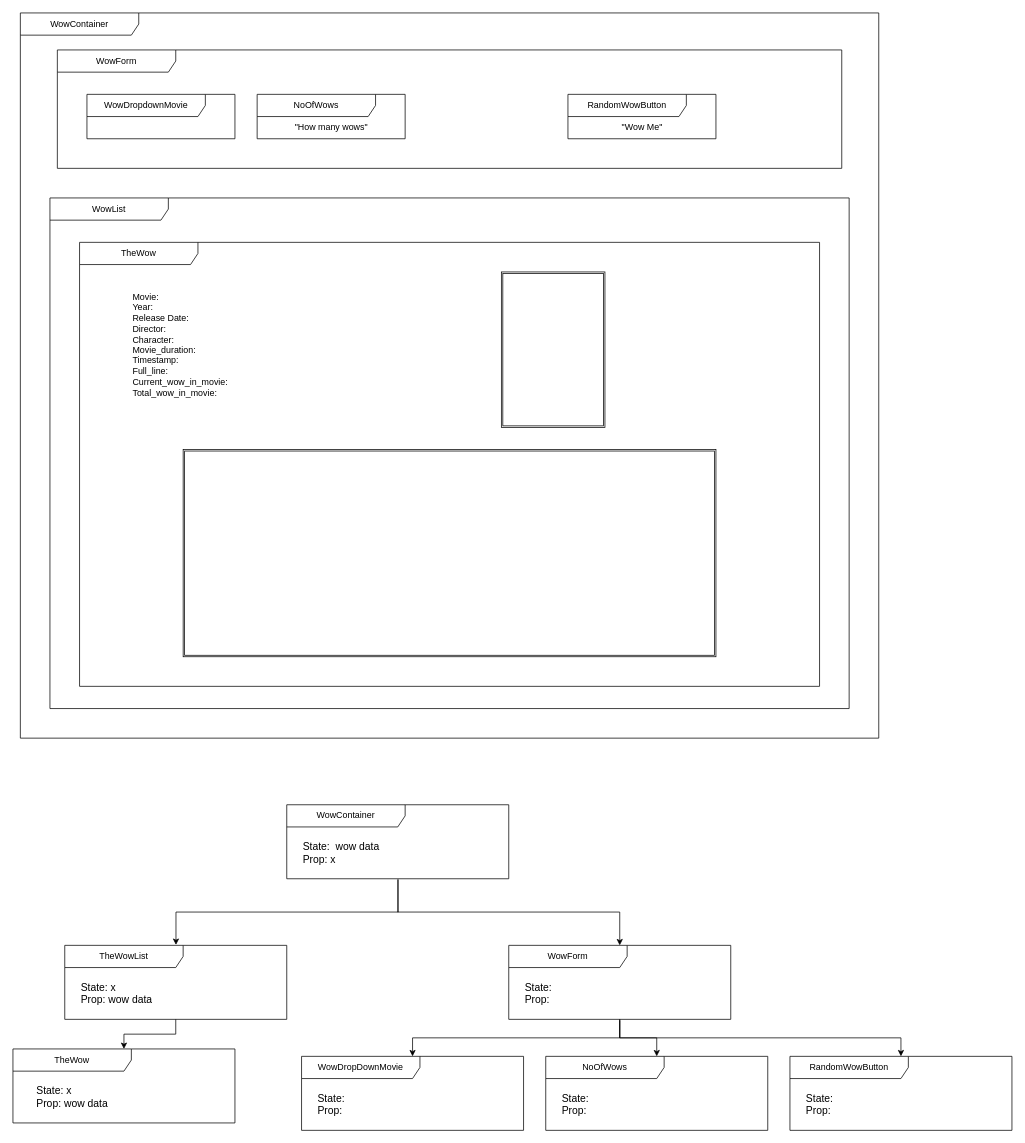
The diagram is 1025 pixels wide and 1143 high, and some of its shapes have lost their labels. The centre of each missing label's shape, as x and y in pixels:
Poster: [553,349]
Video player: [449,553]
